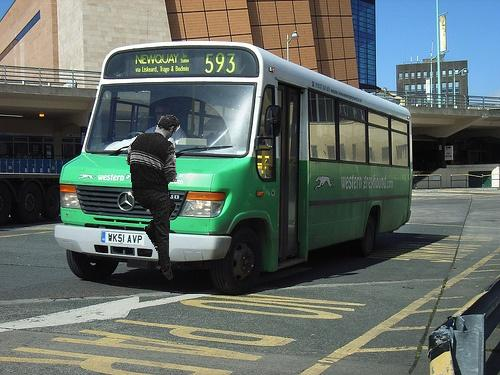tampered: (127, 116, 180, 284)
